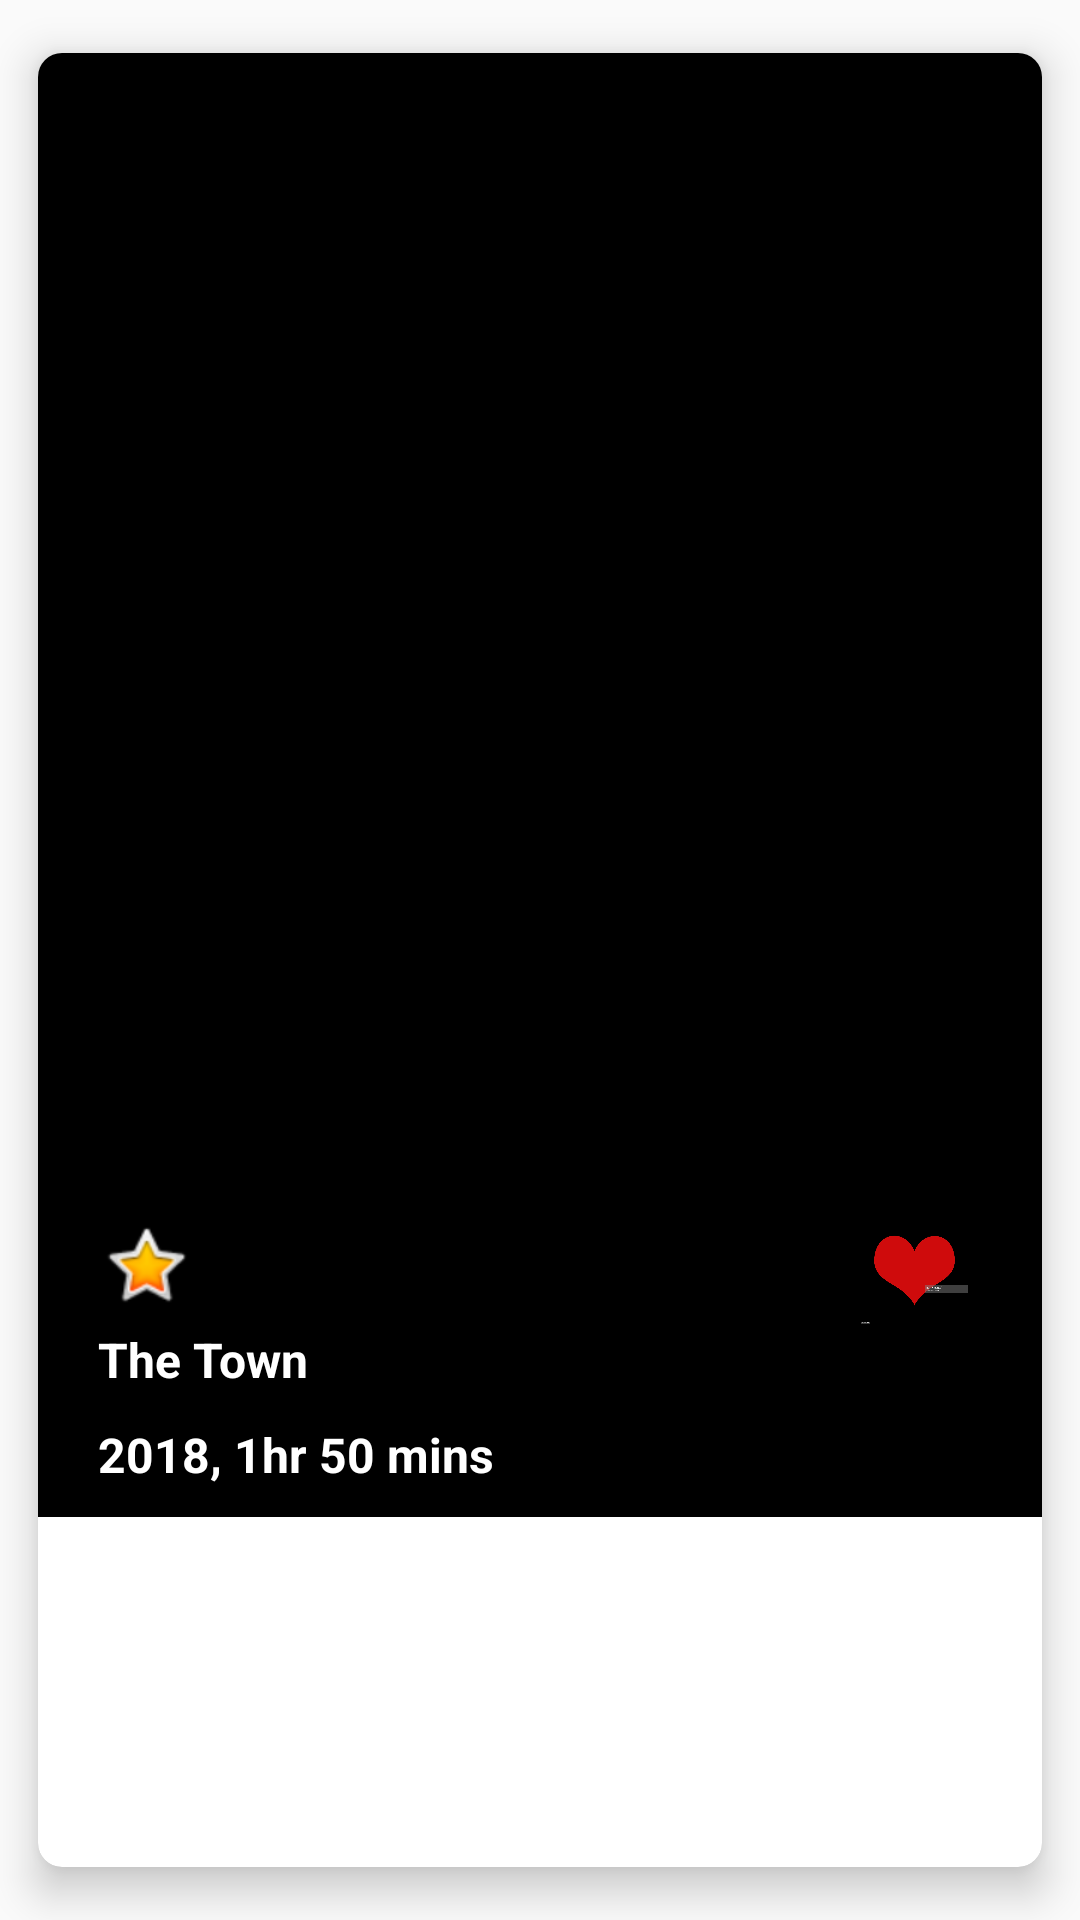

Icons on this 1080px×1920px Android screen, each with the point to tap as [x,y]:
heart: [914,1280]
star on: [147,1265]
